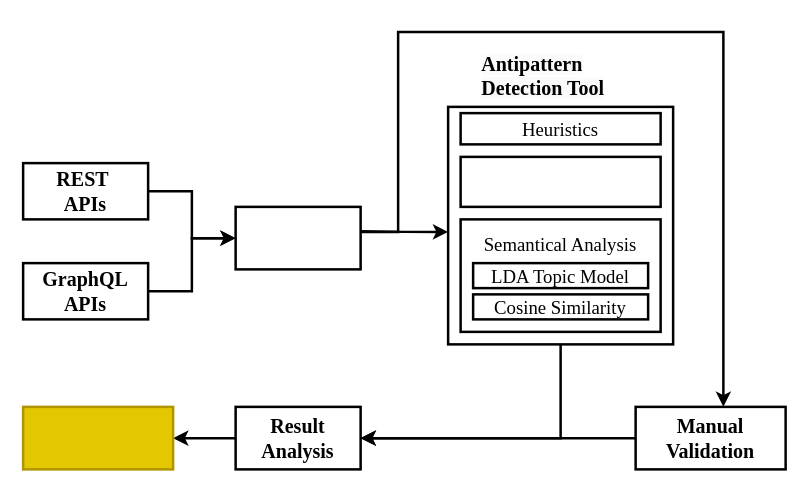
The diagram is 808 pixels wide and 491 high, and some of its shapes have lost their labels. Each missing label, with the centre of its shape:
"Pre-processing" belongs at point 297,237.
"Recommendation System" belongs at point 97,437.
"Syntactical Analysis" belongs at point 560,181.
